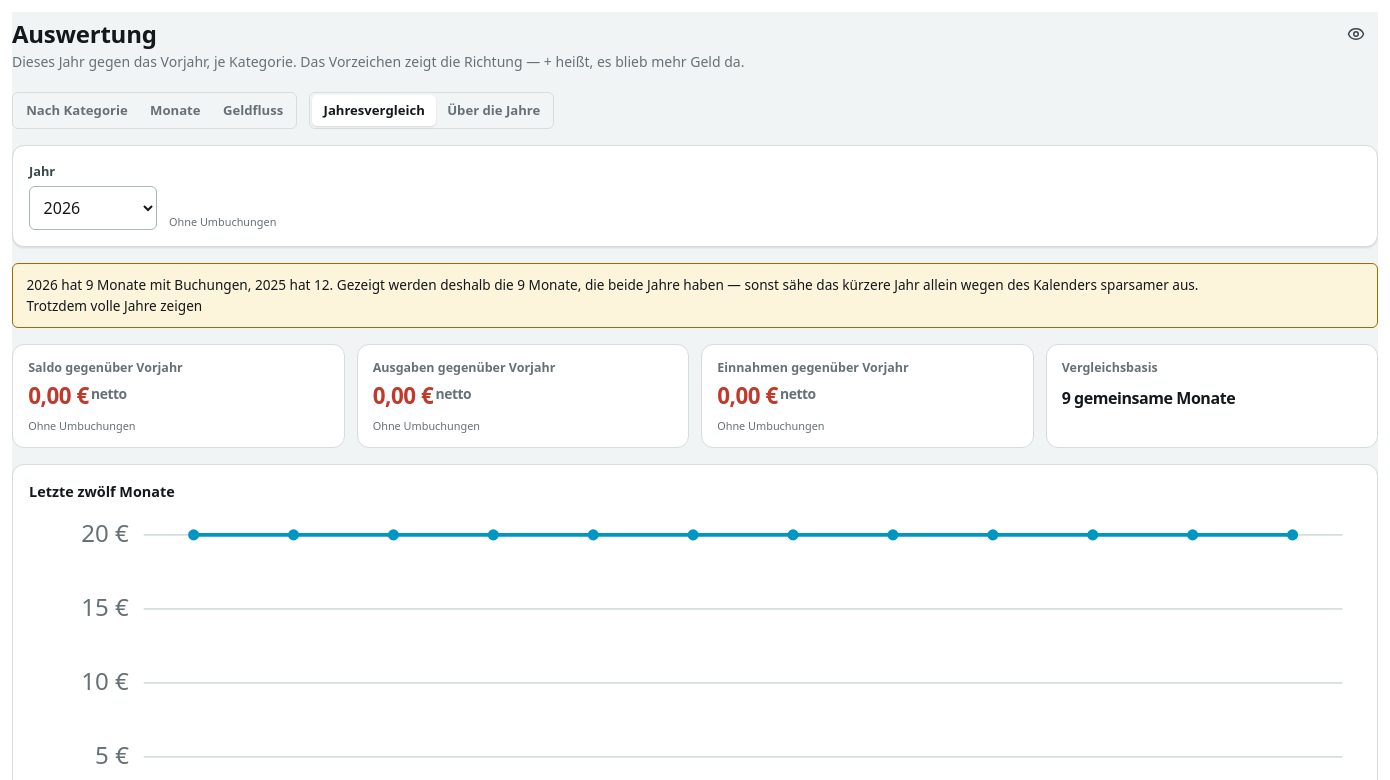
the year comparison › will show the raw years when asked, and says that is what it is doing
The width and height of the screenshot is (1390, 780).
Click the button "Trotzdem volle Jahre zeigen".
click(114, 306)  # box [27, 296, 202, 316]
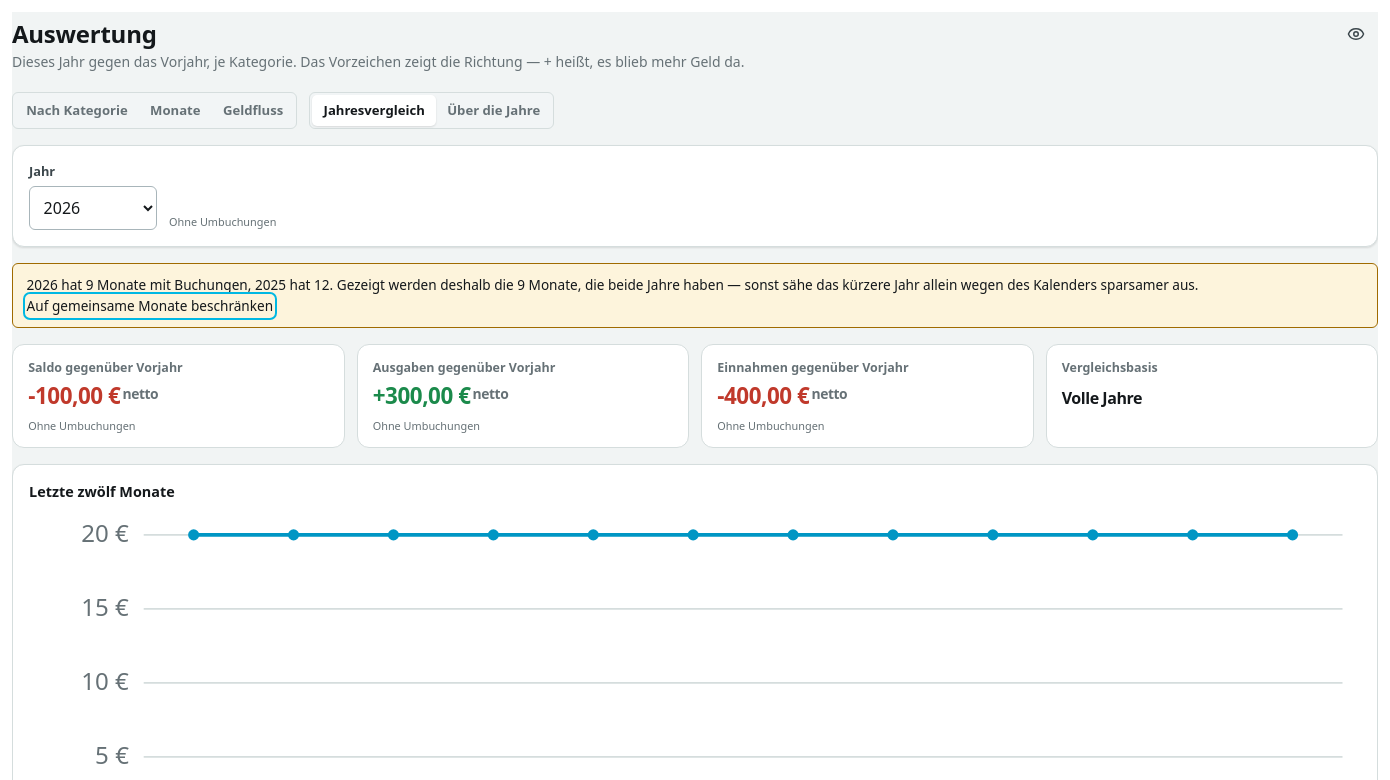
Result: the text "Volle Jahre" is shown at [1062, 387, 1142, 409]
